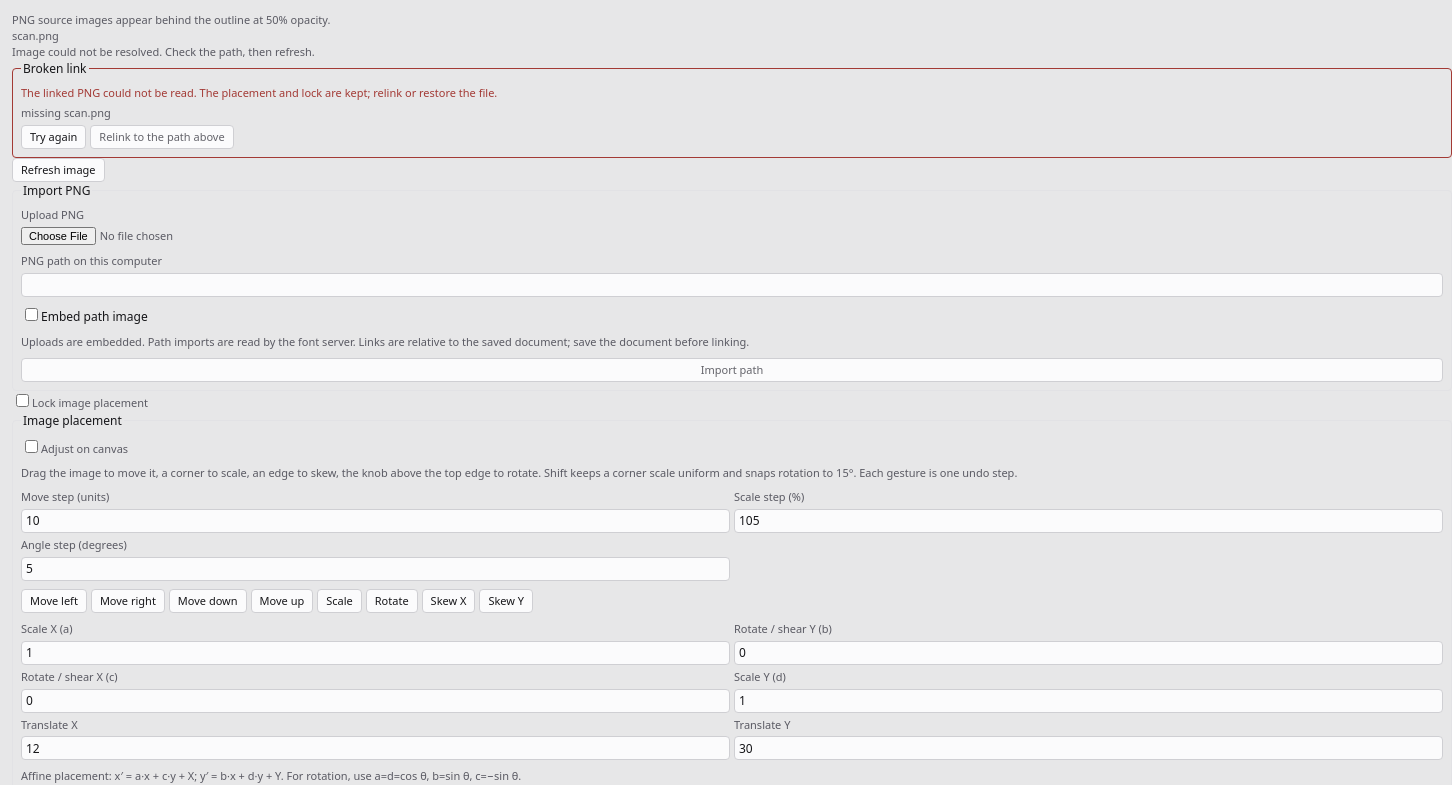
Test: shows broken-link details and refreshes without mutating the source
Expected: the text "missing scan.png" is shown, 21,105 -> 111,120
Step 1. Click the button "Refresh image" → (58, 170), box 12,158 -> 104,182
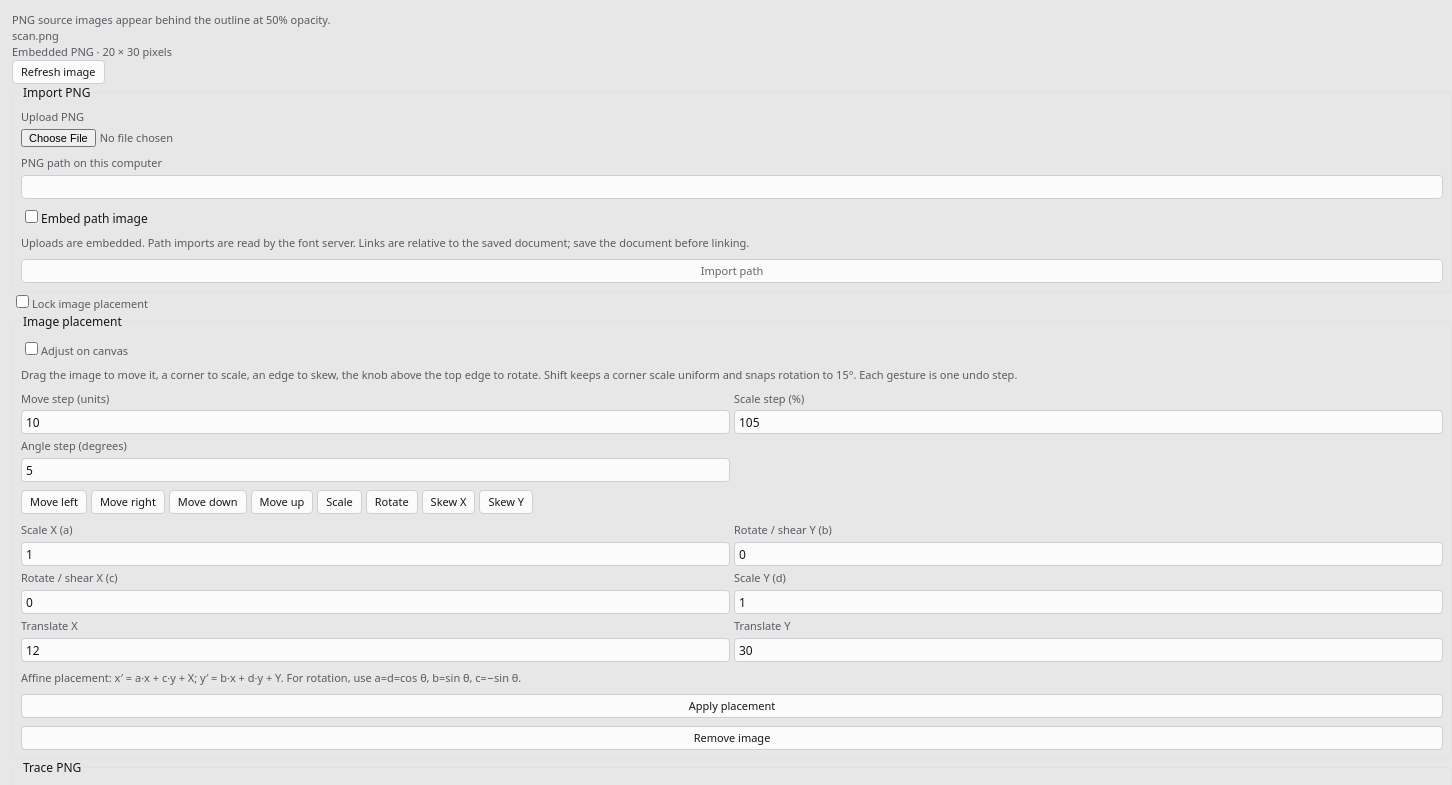
Now the text "Embedded PNG · 20 × 30 pixels" is shown, box 12,44 -> 172,59
